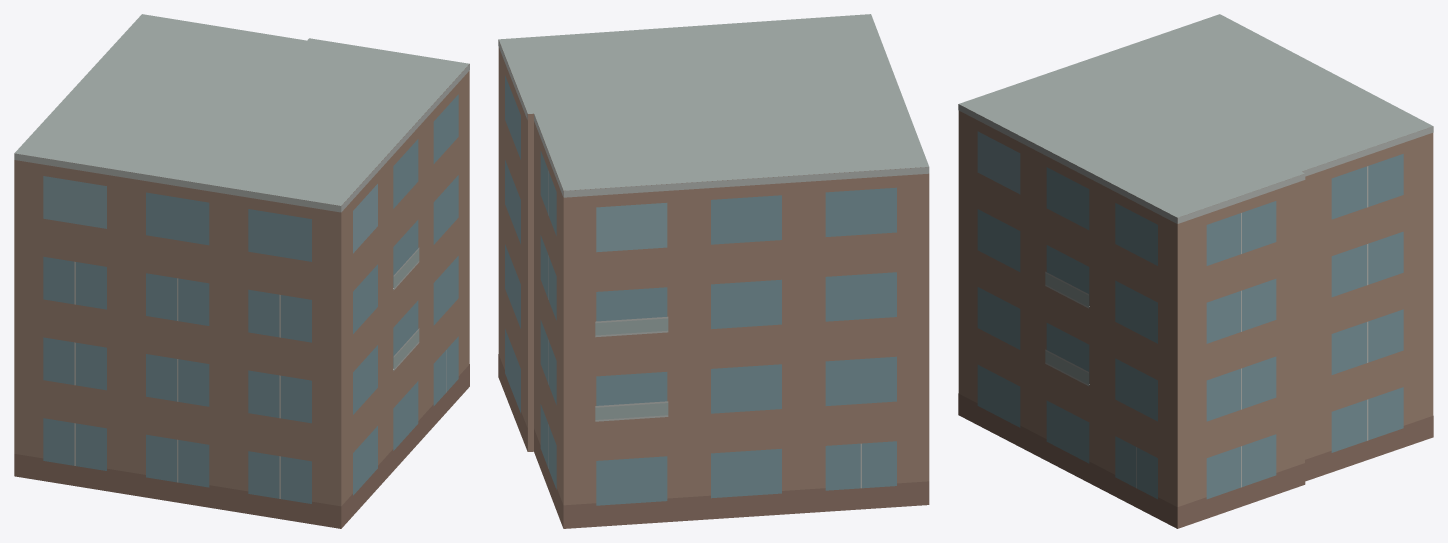
Rendered from survey-upis-32690978.glb.
The picture shows the model from 3 angles, left to right: view 1: azimuth 30°, elevation 25°; view 2: azimuth 150°, elevation 25°; view 3: azimuth 270°, elevation 25°; orthographic projection. The views are drawn at different scales.
Parts seen in each view (by area): view 1: survey-upis-32690978.tmp; view 2: survey-upis-32690978.tmp; view 3: survey-upis-32690978.tmp.
Boxes of the visible parts, bbox=[...] form: survey-upis-32690978.tmp: bbox=[14, 14, 469, 528]; survey-upis-32690978.tmp: bbox=[498, 14, 929, 528]; survey-upis-32690978.tmp: bbox=[958, 14, 1433, 528].
Size of the model in its own units: 16.87 by 12 by 16.61.
